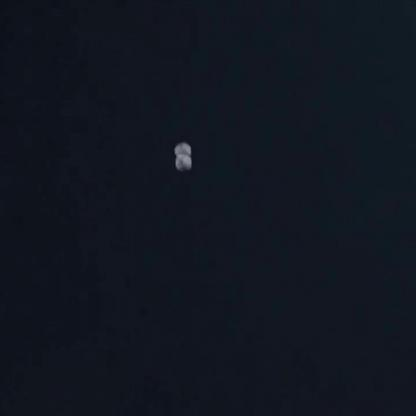ball: (170, 151, 196, 176), (168, 137, 198, 154)
